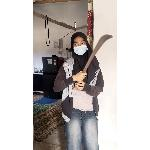Golok: (70, 34, 116, 84)
